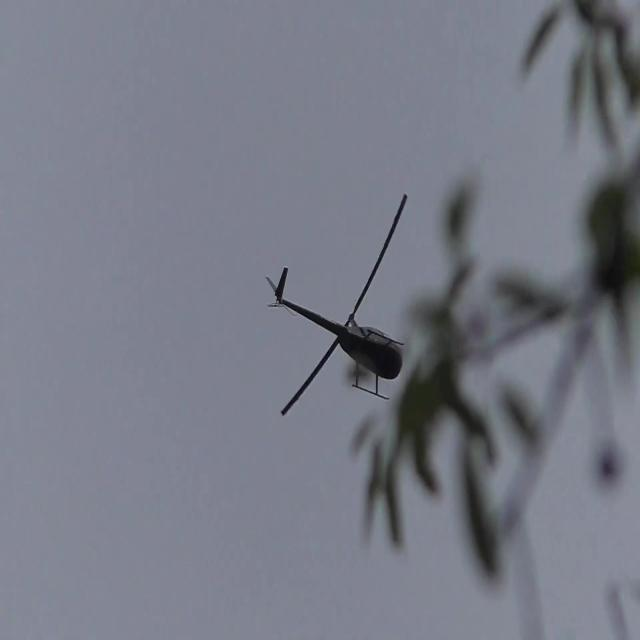CIV_HELO: (265, 265, 405, 401)
